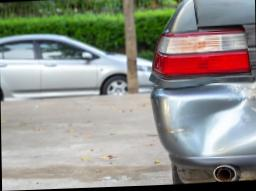Bumper: (155, 81, 256, 161)
